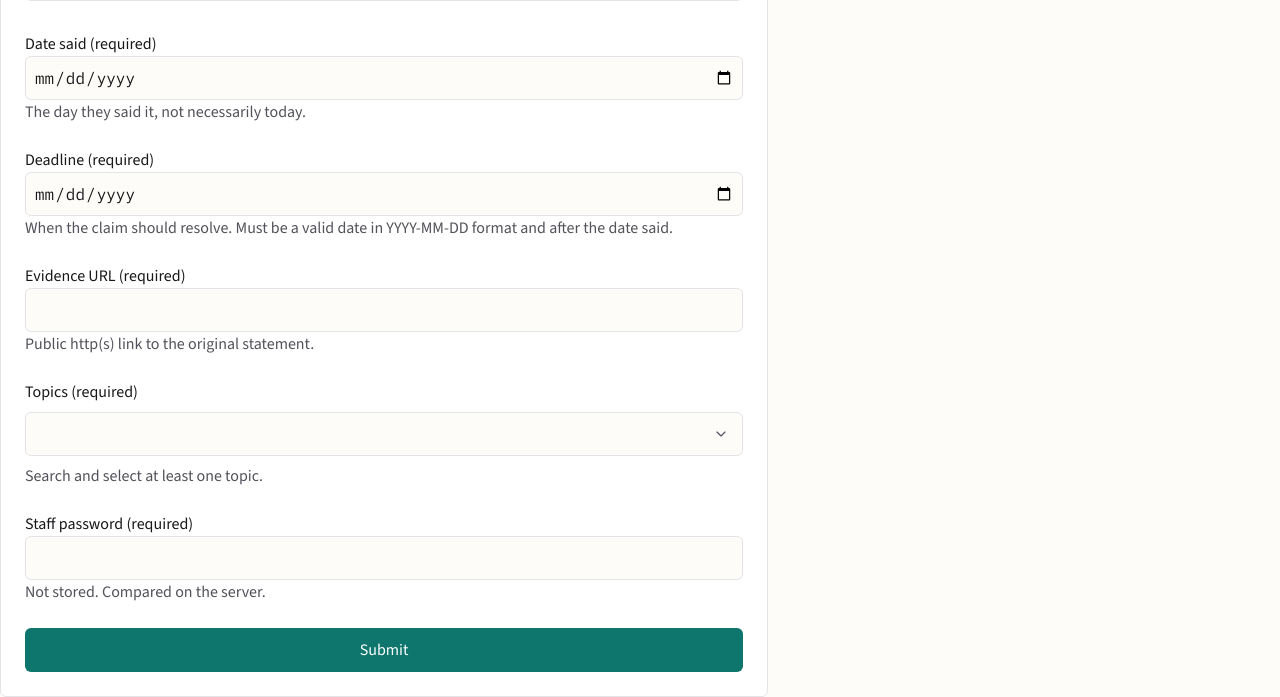
Test: StaffAddForm › given a child name query, should keep that child under its parent.
(page scrolled)
Type "midterm" into the dropdown labelled "Topics (required)" at point(384, 434), box [25,412,743,456]
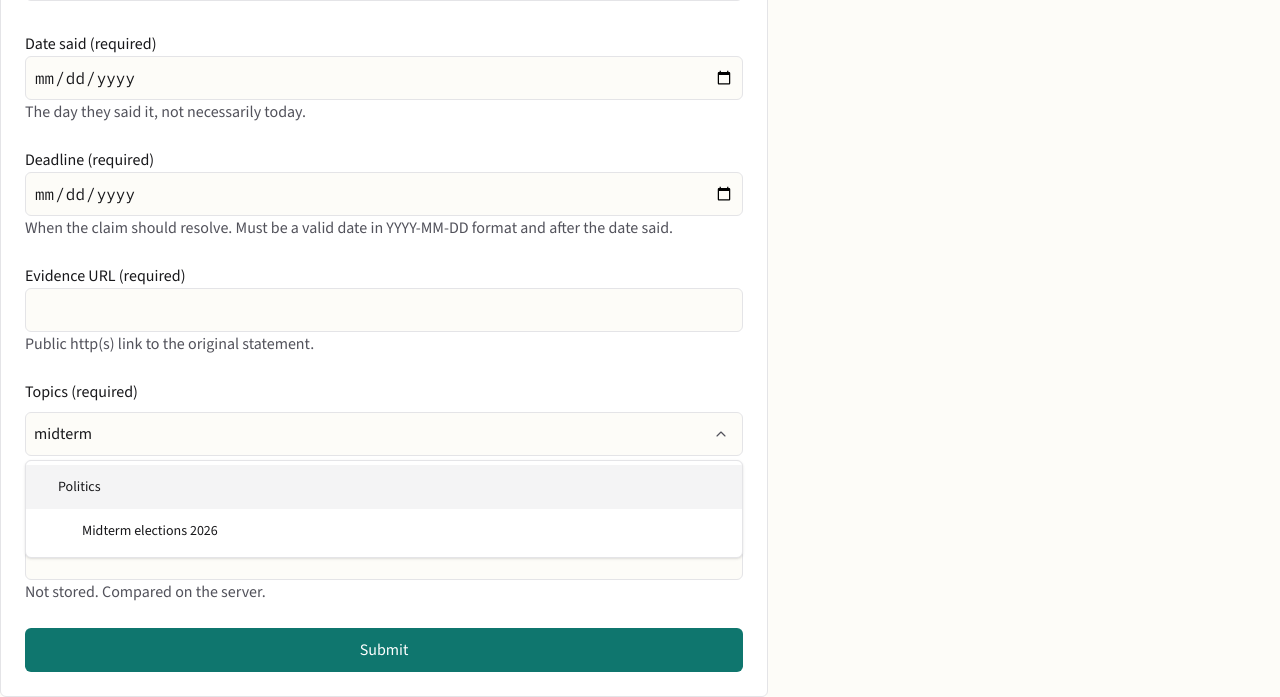
Now the option "Politics" is shown, box [26,465,742,509]
Now the option "Midterm elections 2026" is shown, box [82,521,218,540]
